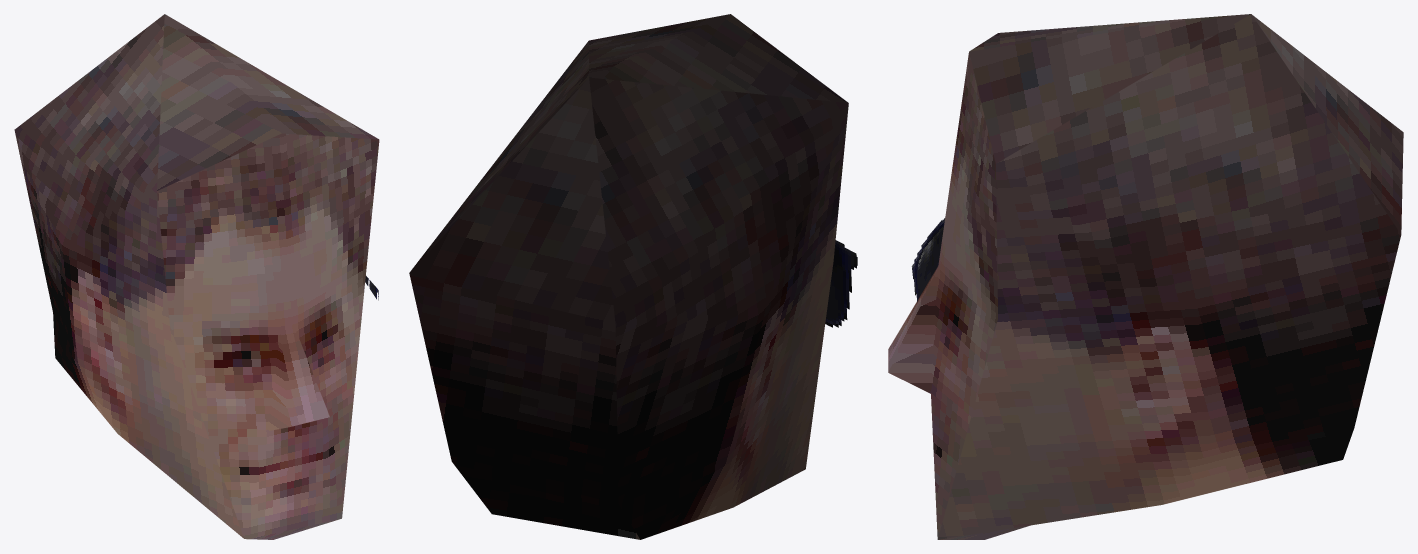
The model's file is CheaddesZ.obj.
3 views of the same model, side by side, from view 1: azimuth 30°, elevation 25°; view 2: azimuth 150°, elevation 25°; view 3: azimuth 270°, elevation 25° (orthographic). The views are drawn at different scales.
Size of the model in its own units: 150 by 260 by 230.
6 materials, 6 textured.
